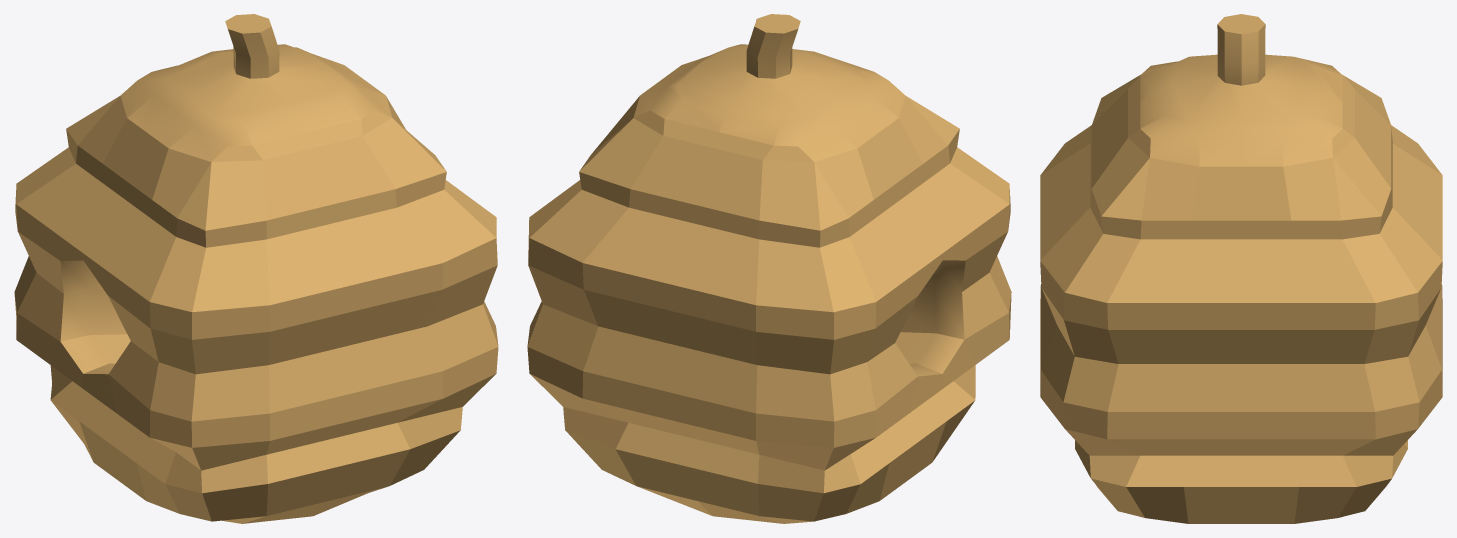
The model's file is Beehive.fbx.
The picture shows the model from 3 angles, left to right: view 1: azimuth 30°, elevation 25°; view 2: azimuth 150°, elevation 25°; view 3: azimuth 270°, elevation 25°; orthographic projection.
Parts seen in each view (by area): view 1: Beehive_Mesh; view 2: Beehive_Mesh; view 3: Beehive_Mesh.
Part boxes in pixels (x1,y1,x2,y2): Beehive_Mesh: (14,14,498,523); Beehive_Mesh: (527,14,1011,523); Beehive_Mesh: (1040,14,1442,523).
Size of the model in its own units: 23.14 by 28.87 by 23.14.
